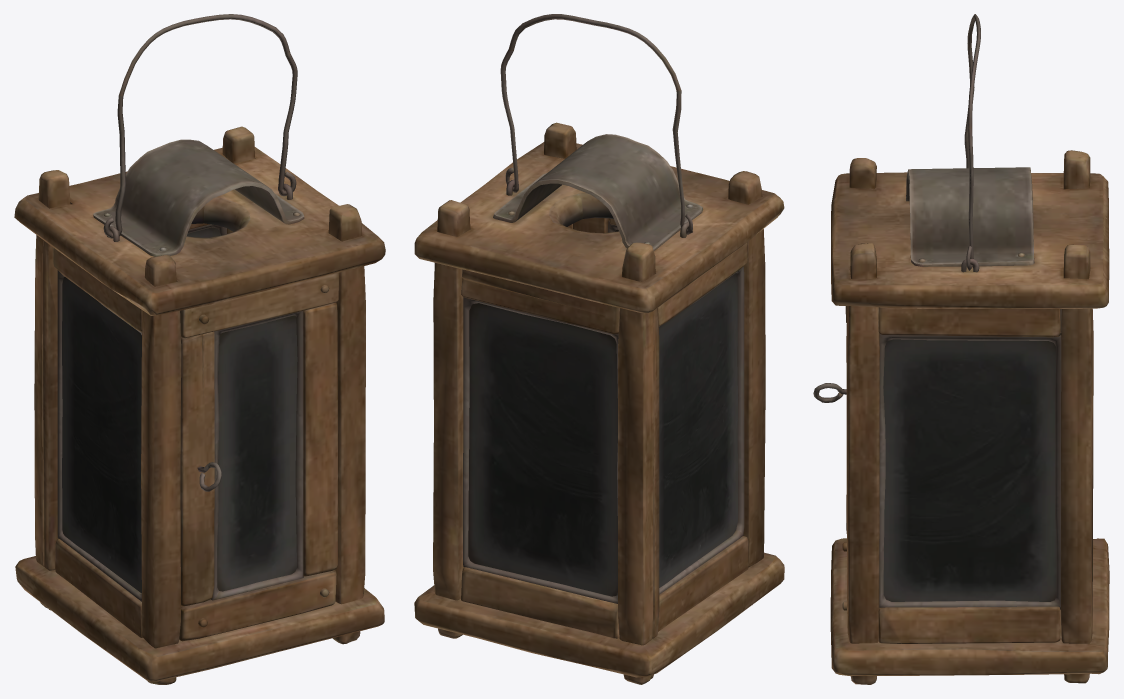
The model's file is wooden_lantern_01.glb.
3 renders of one model, left to right at view 1: azimuth 30°, elevation 25°; view 2: azimuth 150°, elevation 25°; view 3: azimuth 270°, elevation 25°, orthographic.
Visible parts, largest first — view 1: wooden_lantern_01, wooden_lantern_01_door, wooden_lantern_01_handle; view 2: wooden_lantern_01, wooden_lantern_01_handle, wooden_lantern_01_door; view 3: wooden_lantern_01, wooden_lantern_01_handle, wooden_lantern_01_door.
Boxes of the visible parts, x1,y1,x2,y2 form: wooden_lantern_01: [14, 126, 385, 684]; wooden_lantern_01_door: [179, 272, 339, 641]; wooden_lantern_01_handle: [103, 14, 297, 238]; wooden_lantern_01: [414, 122, 784, 684]; wooden_lantern_01_handle: [500, 14, 692, 234]; wooden_lantern_01_door: [573, 217, 618, 233]; wooden_lantern_01: [830, 150, 1109, 684]; wooden_lantern_01_handle: [964, 14, 980, 270]; wooden_lantern_01_door: [813, 306, 847, 610].
Bounding box in the file's own units: 0.2211 × 0.5301 × 0.2347.
2 materials, 2 textured.
